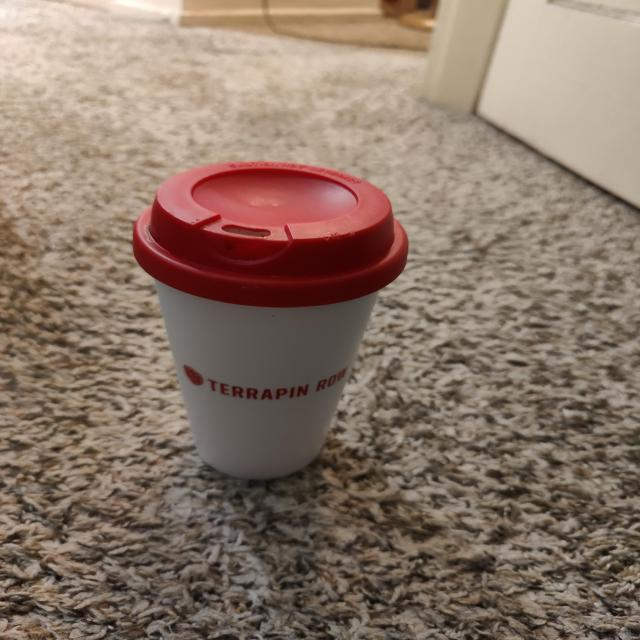mug: (147, 158, 389, 464)
